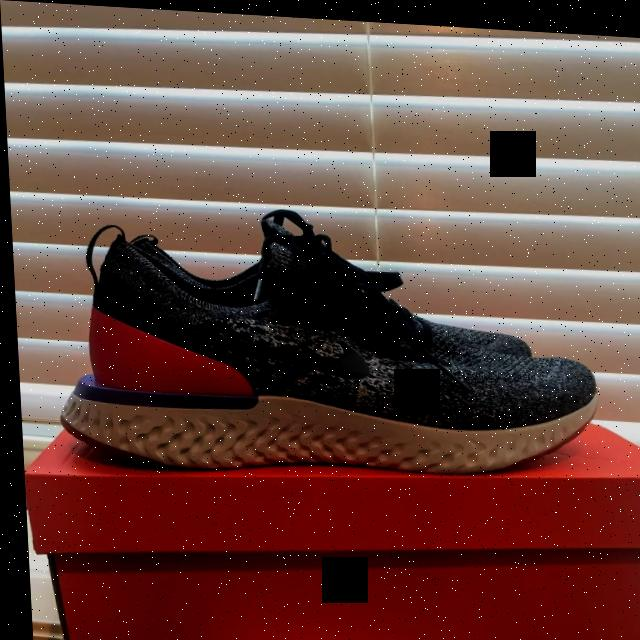shoes: (36, 186, 608, 508)
